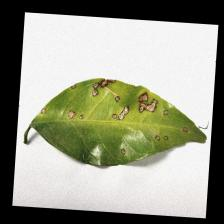canker: (43, 74, 195, 162)
